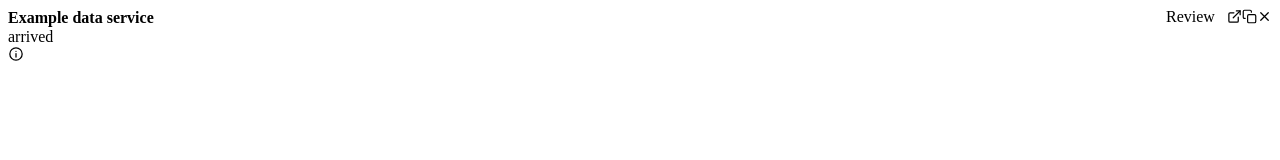
Scenario: the job header's controls › says why a move failed and stays put
The width and height of the screenshot is (1280, 160).
Click the button named "Dismiss Example data service (move to Passed)" at x=1264, y=16, box [1257, 9, 1272, 24]
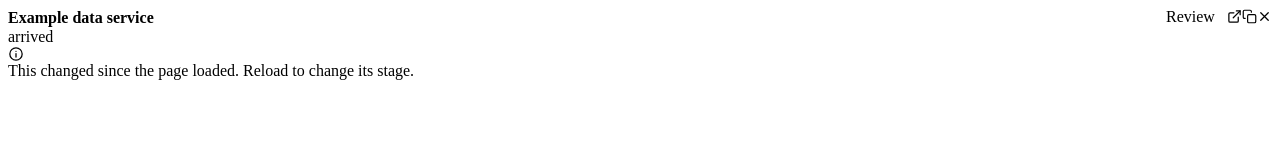
Result: the text "Reload to change its stage." is shown at [8, 62, 414, 79]
